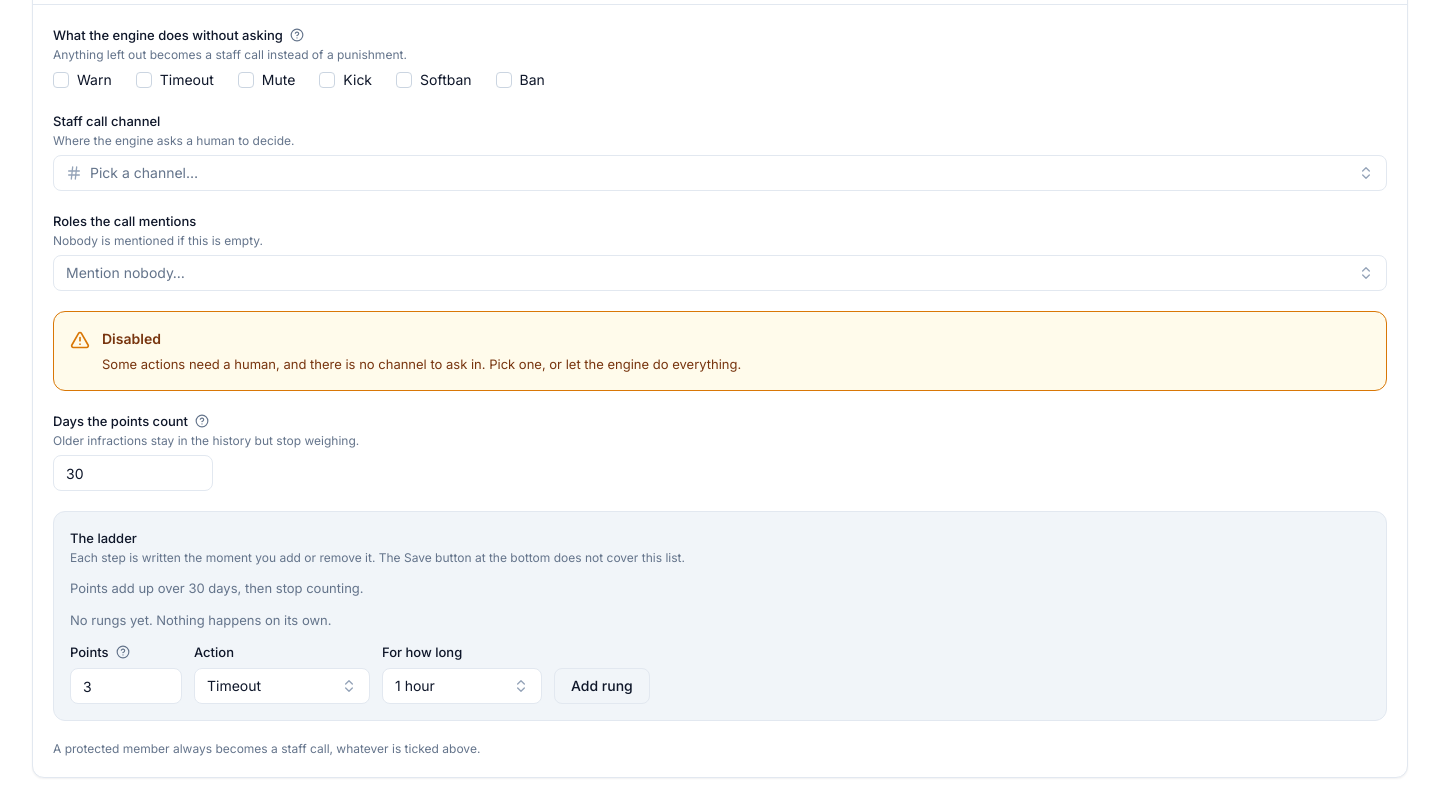
ModerationScreen › explains what each severity is worth right where the threshold is typed
(page scrolled)
Click the button named "Help with points" in the row of "For how long" at [122, 652], box [112,642,132,662]
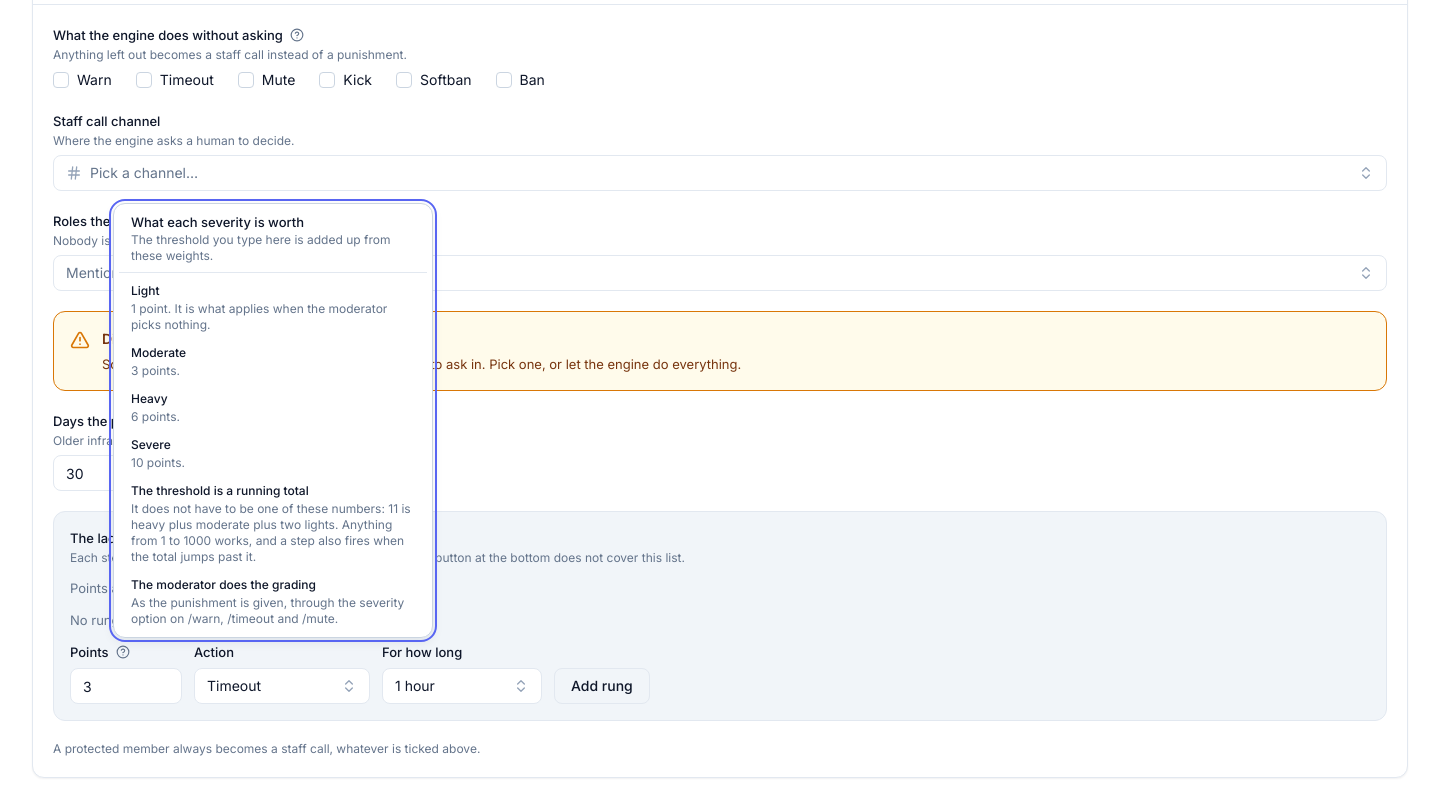
Expected: the text "What each severity is worth" is shown, [131,214,304,230]
Expected: the text "Light" is shown, [131,283,160,298]
Expected: the text "1 point. It is what applies when the moderator picks nothing." is shown, [131,301,415,333]
